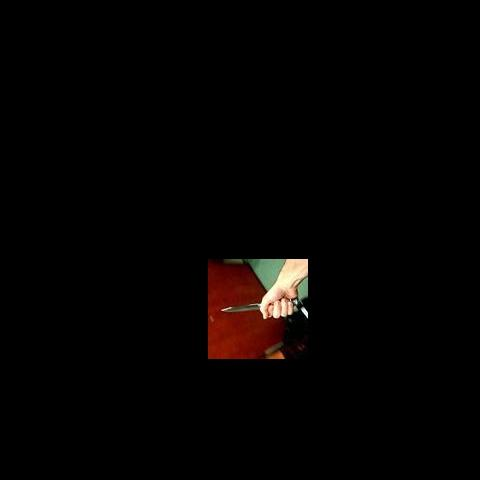knife: (220, 298, 303, 314)
